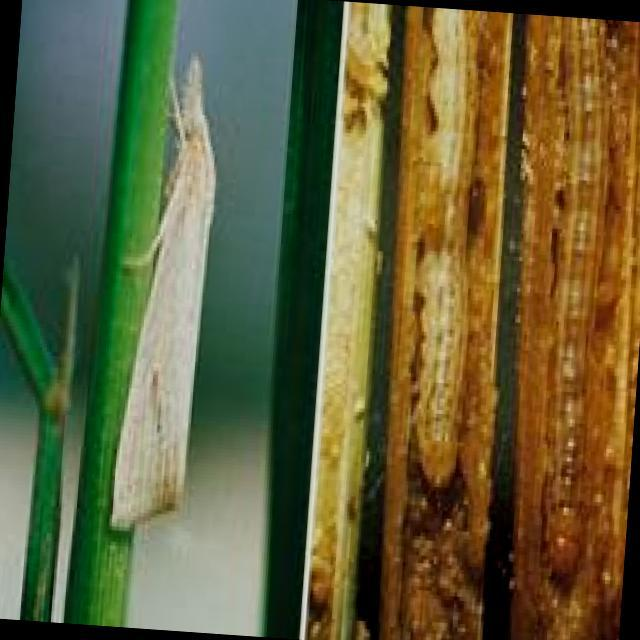stem borer: (309, 3, 639, 639), (111, 57, 215, 528), (112, 58, 215, 528)
